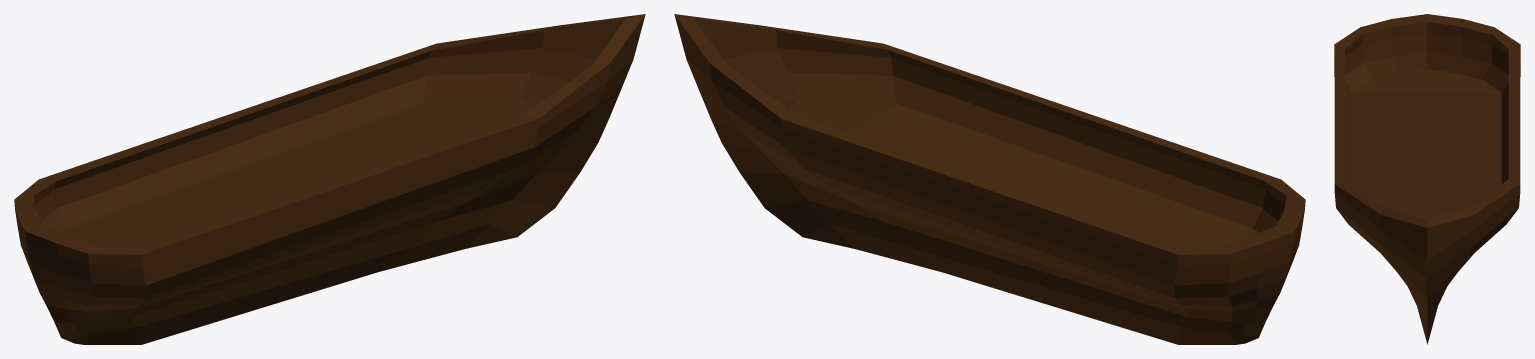
Rendered from boat.glb.
3 views of the same model, side by side, from view 1: azimuth 30°, elevation 25°; view 2: azimuth 150°, elevation 25°; view 3: azimuth 270°, elevation 25° (orthographic). The views are drawn at different scales.
Parts seen in each view (by area): view 1: Boat 1; view 2: Boat 1; view 3: Boat 1.
Part boxes in pixels (x1,y1,x2,y2): Boat 1: (14,14,645,344); Boat 1: (674,14,1305,344); Boat 1: (1334,14,1520,344).
Size of the model in its own units: 11.99 by 3.84 by 3.45.
